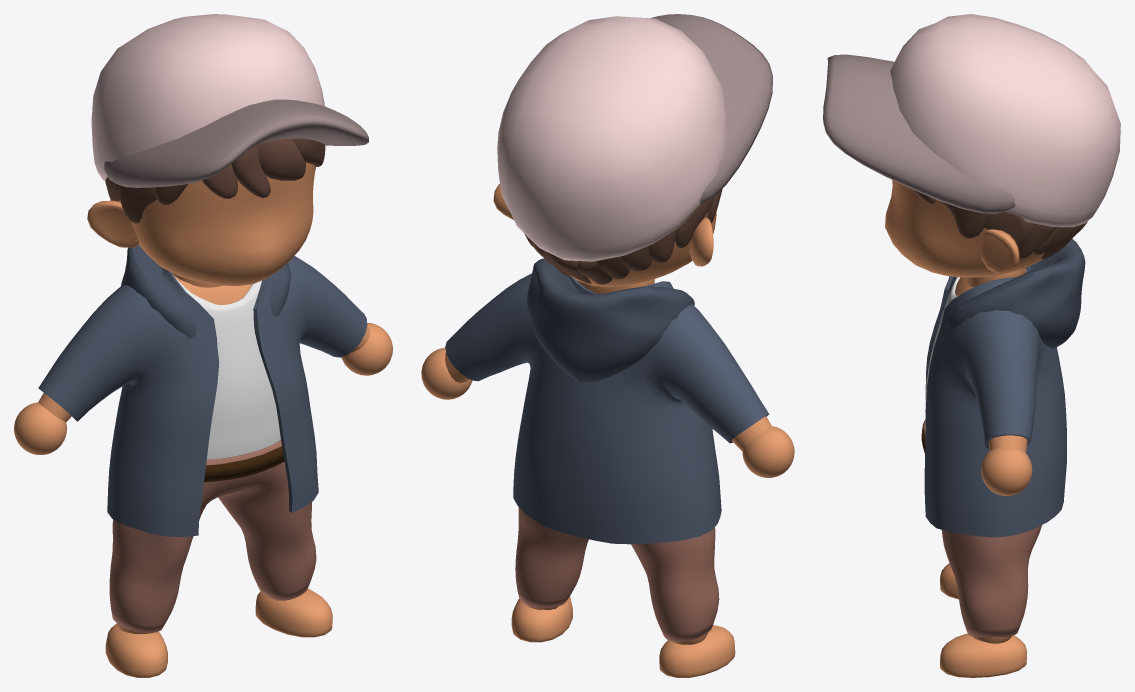
Rendered from player_v3.4.fbx.
The picture shows the model from 3 angles, left to right: view 1: azimuth 30°, elevation 25°; view 2: azimuth 150°, elevation 25°; view 3: azimuth 270°, elevation 25°; orthographic projection. The views are drawn at different scales.
Parts seen in each view (by area): view 1: Jacket.001, Hat_Top, Pants, Head, Hat_Front, Shirt, Hair, Feet, Hand, Retopo_Cube.001, Ears, Retopo_Romp.001 (+1 smaller); view 2: Jacket.001, Hat_Top, Retopo_Cube.001, Pants, Hat_Front, Feet, Hair, Hand, Head, Ears, Retopo_Romp.001; view 3: Hat_Top, Jacket.001, Hat_Front, Pants, Retopo_Cube.001, Head, Feet, Hair, Hand, Ears, Retopo_Romp.001.
Part boxes in pixels (<box>): Jacket.001: <box>38,256,367,536</box>; Hat_Top: <box>91,14,324,180</box>; Pants: <box>109,440,316,632</box>; Head: <box>119,162,315,285</box>; Hat_Front: <box>103,99,368,187</box>; Shirt: <box>175,277,280,459</box>; Hair: <box>105,138,325,223</box>; Feet: <box>105,588,332,677</box>; Hand: <box>14,323,392,454</box>; Retopo_Cube.001: <box>121,244,291,338</box>; Ears: <box>87,200,139,247</box>; Retopo_Romp.001: <box>38,274,369,633</box>; Jacket.001: <box>445,273,768,544</box>; Hat_Top: <box>497,16,727,261</box>; Retopo_Cube.001: <box>527,258,694,383</box>; Pants: <box>515,507,719,641</box>; Hat_Front: <box>650,14,772,204</box>; Feet: <box>511,596,735,677</box>; Hair: <box>524,189,722,284</box>; Hand: <box>421,347,794,477</box>; Head: <box>570,211,716,287</box>; Ears: <box>493,184,713,266</box>; Retopo_Romp.001: <box>445,352,771,644</box>; Hat_Top: <box>890,14,1120,227</box>; Jacket.001: <box>924,265,1066,537</box>; Hat_Front: <box>823,54,1015,213</box>; Pants: <box>923,419,1041,637</box>; Retopo_Cube.001: <box>946,238,1085,348</box>; Head: <box>885,180,1044,277</box>; Feet: <box>940,563,1026,677</box>; Hair: <box>913,189,1087,259</box>; Hand: <box>981,447,1032,495</box>; Ears: <box>981,229,1019,273</box>; Retopo_Romp.001: <box>955,277,1027,643</box>.
Bounding box in the file's own units: 180 × 288 × 129.
